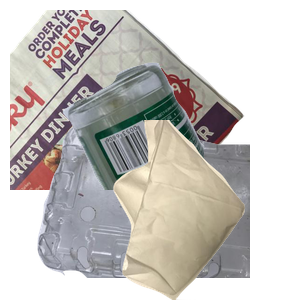glass: (60, 60, 300, 240)
paper: (10, 10, 247, 190)
plastic: (35, 120, 275, 300)
trash: (111, 120, 300, 300)
